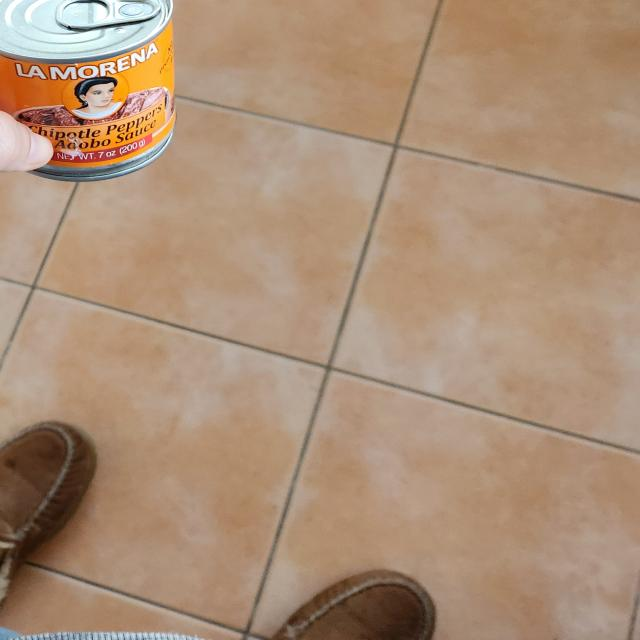beans: (0, 0, 177, 180)
